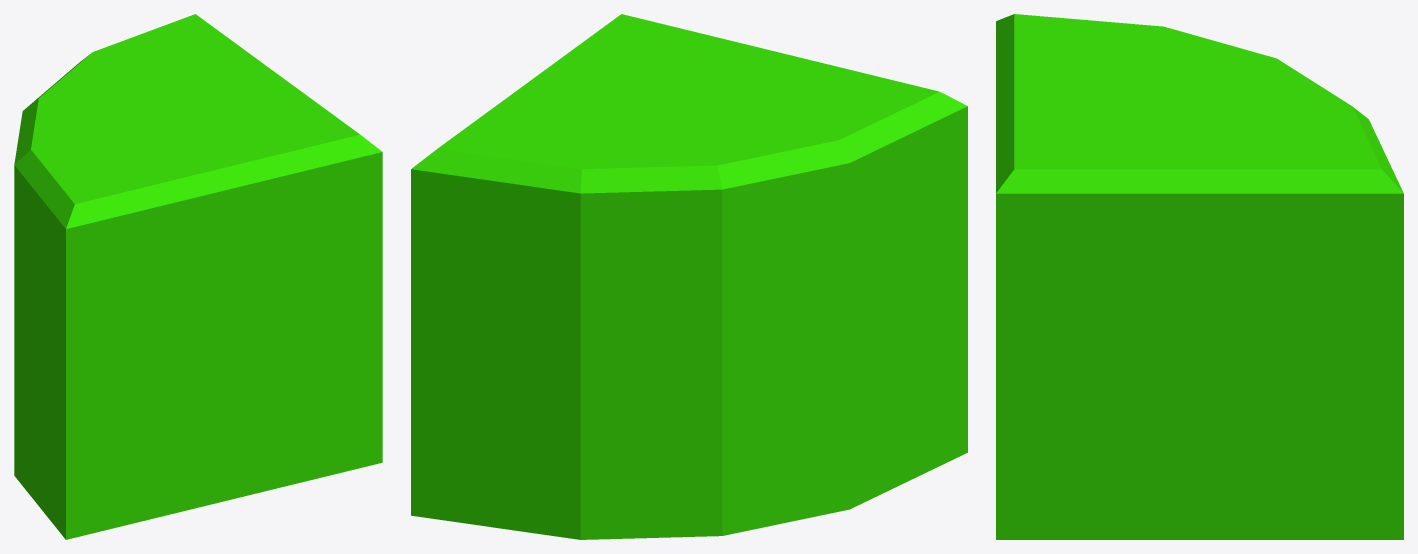
The model's file is round_1x1.fbx.
The picture shows the model from 3 angles, left to right: view 1: azimuth 30°, elevation 25°; view 2: azimuth 150°, elevation 25°; view 3: azimuth 270°, elevation 25°; orthographic projection. The views are drawn at different scales.
Visible parts, largest first — view 1: round_1x1; view 2: round_1x1; view 3: round_1x1.
Boxes of the visible parts, x1,y1,x2,y2 form: round_1x1: (14, 14, 382, 539); round_1x1: (411, 14, 967, 539); round_1x1: (996, 14, 1403, 539).
Size of the model in its own units: 112 by 110 by 112.
